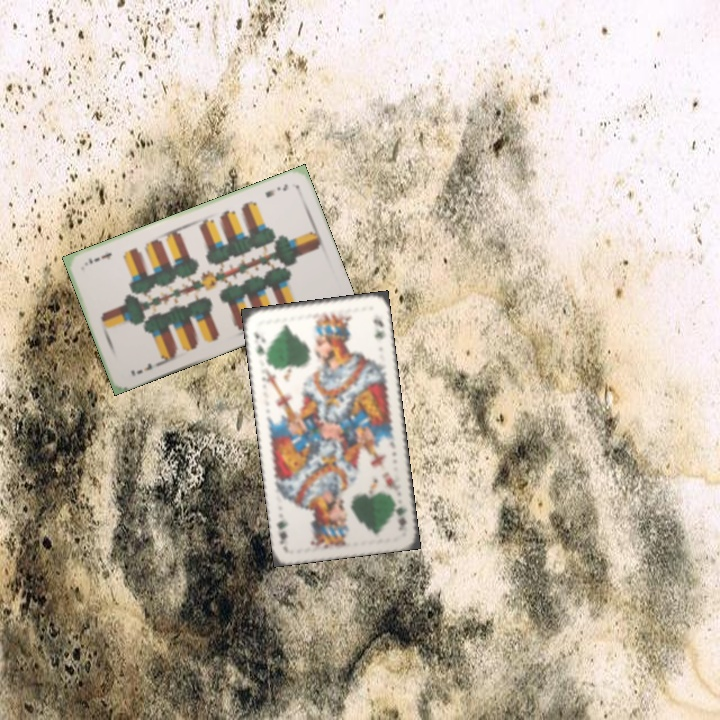E7: (261, 180, 290, 200), (127, 359, 155, 379)
GK: (390, 495, 409, 534), (250, 327, 270, 362)
